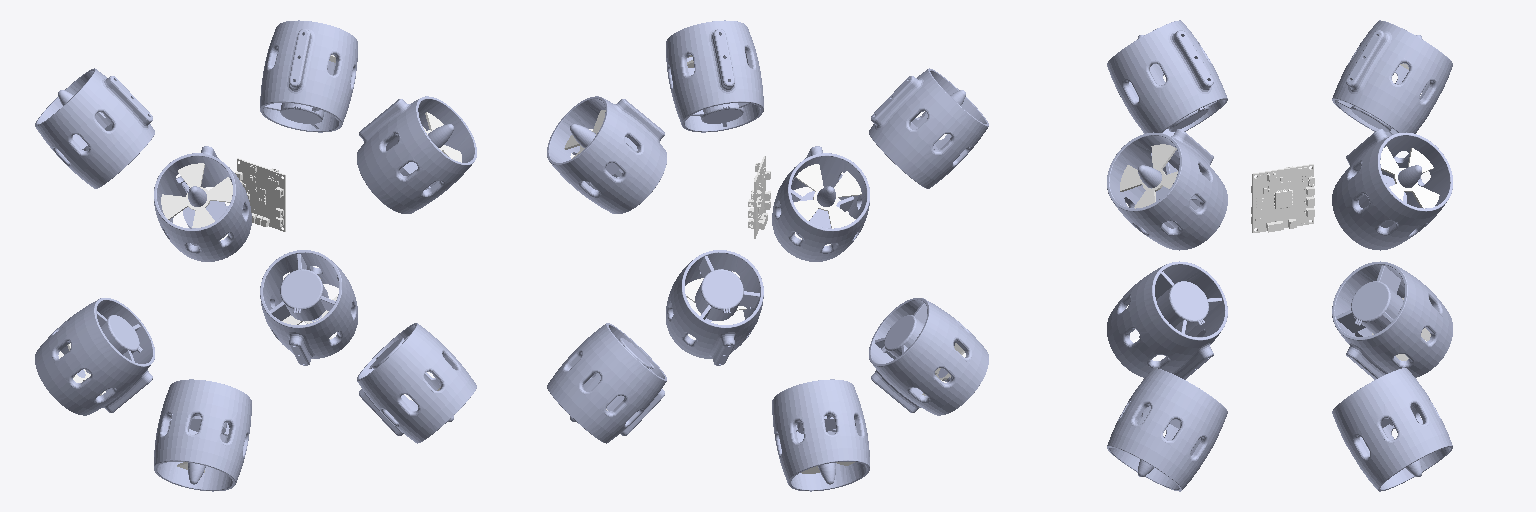
The robot description file, URDF, robot "proto_type_5":
<?xml version='1.0' encoding='UTF-8'?>
<robot name="proto_type_5">
  <link name="base_link">
    <inertial>
      <origin xyz="0.000610809453814865 0.162582918364251 -0.1654384203084" rpy="0.0 -0.0 0.0"/>
      <mass value="2.03290862810658"/>
      <inertia ixx="0.0157494672417558" ixy="4.09597593842855e-05" ixz="-4.67703603305006e-11" iyy="0.00862299314586213" iyz="-1.77040423339248e-11" izz="0.0122062172223626"/>
    </inertial>
    <visual>
      <geometry>
        <mesh filename="package://proto_type_5/meshes/base_link.dae"/>
      </geometry>
      <material name="__unnamed_material_1"/>
      <origin xyz="0.0 0.0 0.0" rpy="0.0 -0.0 0.0"/>
    </visual>
    <collision>
      <geometry>
        <mesh filename="package://proto_type_5/meshes/base_link.stl"/>
      </geometry>
      <origin xyz="0.0 0.0 0.0" rpy="0.0 -0.0 0.0"/>
    </collision>
  </link>
  <link name="t1">
    <inertial>
      <origin xyz="-0.0142922441748077 -0.0143000152096667 0.0177167300551074" rpy="0.0 -0.0 0.0"/>
      <mass value="0.0993924873704976"/>
      <inertia ixx="7.91541243410576e-05" ixy="6.1394710344996e-08" ixz="-3.7817205620643e-06" iyy="7.91363117743542e-05" iyz="-3.8040185353616e-06" izz="7.67197078218331e-05"/>
    </inertial>
    <visual>
      <geometry>
        <mesh filename="package://proto_type_5/meshes/t1.dae"/>
      </geometry>
      <material name="__unnamed_material_2"/>
      <origin xyz="0.0 0.0 0.0" rpy="0.0 -0.0 0.0"/>
    </visual>
    <collision>
      <geometry>
        <mesh filename="package://proto_type_5/meshes/t1.stl"/>
      </geometry>
      <origin xyz="0.0 0.0 0.0" rpy="0.0 -0.0 0.0"/>
    </collision>
  </link>
  <link name="thrust1">
    <inertial>
      <origin xyz="4.341e-13 1.1256e-12 -0.001" rpy="0.0 -0.0 0.0"/>
      <mass value="0.0028342"/>
      <inertia ixx="6.5251e-07" ixy="-3.7984e-21" ixz="-3.8381e-22" iyy="6.5251e-07" iyz="-4.4999e-22" izz="1.3031e-06"/>
    </inertial>
    <visual>
      <geometry>
        <mesh filename="package://proto_type_5/meshes/thrust1.dae"/>
      </geometry>
      <material name="__unnamed_material_3"/>
      <origin xyz="0.0 0.0 0.0" rpy="0.0 -0.0 0.0"/>
    </visual>
    <collision>
      <geometry>
        <mesh filename="package://proto_type_5/meshes/thrust1.stl"/>
      </geometry>
      <origin xyz="0.0 0.0 0.0" rpy="0.0 -0.0 0.0"/>
    </collision>
  </link>
  <link name="t2">
    <inertial>
      <origin xyz="-0.0143000152083121 0.0142922441734263 0.0177167300550675" rpy="0.0 -0.0 0.0"/>
      <mass value="0.099392487370497"/>
      <inertia ixx="7.91363117743929e-05" ixy="-6.13947103527403e-08" ixz="-3.80401853537244e-06" iyy="7.91541243410998e-05" iyz="3.78172056207492e-06" izz="7.67197078218827e-05"/>
    </inertial>
    <visual>
      <geometry>
        <mesh filename="package://proto_type_5/meshes/t2.dae"/>
      </geometry>
      <material name="__unnamed_material_4"/>
      <origin xyz="0.0 0.0 0.0" rpy="0.0 -0.0 0.0"/>
    </visual>
    <collision>
      <geometry>
        <mesh filename="package://proto_type_5/meshes/t2.stl"/>
      </geometry>
      <origin xyz="0.0 0.0 0.0" rpy="0.0 -0.0 0.0"/>
    </collision>
  </link>
  <link name="thrust2">
    <inertial>
      <origin xyz="-4.5031e-13 -1.1389e-12 0.001" rpy="0.0 -0.0 0.0"/>
      <mass value="0.0028342"/>
      <inertia ixx="6.5251e-07" ixy="5.7836e-21" ixz="2.647e-23" iyy="6.5251e-07" iyz="-3.4411e-22" izz="1.3031e-06"/>
    </inertial>
    <visual>
      <geometry>
        <mesh filename="package://proto_type_5/meshes/thrust2.dae"/>
      </geometry>
      <material name="__unnamed_material_5"/>
      <origin xyz="0.0 0.0 0.0" rpy="0.0 -0.0 0.0"/>
    </visual>
    <collision>
      <geometry>
        <mesh filename="package://proto_type_5/meshes/thrust2.stl"/>
      </geometry>
      <origin xyz="0.0 0.0 0.0" rpy="0.0 -0.0 0.0"/>
    </collision>
  </link>
  <link name="t3">
    <inertial>
      <origin xyz="0.014292244174808 0.0143000152068432 0.0177167300551437" rpy="0.0 -0.0 0.0"/>
      <mass value="0.099392487370502"/>
      <inertia ixx="7.91541243411461e-05" ixy="6.1394710360004e-08" ixz="3.78172056208685e-06" iyy="7.91363117744406e-05" iyz="3.80401853538433e-06" izz="7.67197078219415e-05"/>
    </inertial>
    <visual>
      <geometry>
        <mesh filename="package://proto_type_5/meshes/t3.dae"/>
      </geometry>
      <material name="__unnamed_material_6"/>
      <origin xyz="0.0 0.0 0.0" rpy="0.0 -0.0 0.0"/>
    </visual>
    <collision>
      <geometry>
        <mesh filename="package://proto_type_5/meshes/t3.stl"/>
      </geometry>
      <origin xyz="0.0 0.0 0.0" rpy="0.0 -0.0 0.0"/>
    </collision>
  </link>
  <link name="thrust3">
    <inertial>
      <origin xyz="3.65929508916452e-13 -1.19872167747559e-12 0.000999999999298007" rpy="0.0 -0.0 0.0"/>
      <mass value="0.00283424938765202"/>
      <inertia ixx="6.52506444943008e-07" ixy="1.40289831888993e-21" ixz="-2.38228016415272e-22" iyy="6.52506444943005e-07" iyz="7.94093388050907e-23" izz="1.30312339029424e-06"/>
    </inertial>
    <visual>
      <geometry>
        <mesh filename="package://proto_type_5/meshes/thrust3.dae"/>
      </geometry>
      <material name="__unnamed_material_7"/>
      <origin xyz="0.0 0.0 0.0" rpy="0.0 -0.0 0.0"/>
    </visual>
    <collision>
      <geometry>
        <mesh filename="package://proto_type_5/meshes/thrust3.stl"/>
      </geometry>
      <origin xyz="0.0 0.0 0.0" rpy="0.0 -0.0 0.0"/>
    </collision>
  </link>
  <link name="t4">
    <inertial>
      <origin xyz="0.0143000152083128 -0.0142922441762693 0.017716730055045" rpy="0.0 -0.0 0.0"/>
      <mass value="0.0993924873704986"/>
      <inertia ixx="7.91363117743514e-05" ixy="-6.13947103452402e-08" ixz="3.80401853536186e-06" iyy="7.91541243410573e-05" iyz="-3.78172056206365e-06" izz="7.67197078218372e-05"/>
    </inertial>
    <visual>
      <geometry>
        <mesh filename="package://proto_type_5/meshes/t4.dae"/>
      </geometry>
      <material name="__unnamed_material_8"/>
      <origin xyz="0.0 0.0 0.0" rpy="0.0 -0.0 0.0"/>
    </visual>
    <collision>
      <geometry>
        <mesh filename="package://proto_type_5/meshes/t4.stl"/>
      </geometry>
      <origin xyz="0.0 0.0 0.0" rpy="0.0 -0.0 0.0"/>
    </collision>
  </link>
  <link name="thrust4">
    <inertial>
      <origin xyz="-3.60711460700713e-13 -1.19552978627979e-12 0.00100000000069372" rpy="0.0 -0.0 0.0"/>
      <mass value="0.00283424938765201"/>
      <inertia ixx="6.52506444943004e-07" ixy="1.53524721689842e-21" ixz="-3.70576914423756e-22" iyy="6.52506444943001e-07" iyz="1.05879118406788e-22" izz="1.30312339029424e-06"/>
    </inertial>
    <visual>
      <geometry>
        <mesh filename="package://proto_type_5/meshes/thrust4.dae"/>
      </geometry>
      <material name="__unnamed_material_9"/>
      <origin xyz="0.0 0.0 0.0" rpy="0.0 -0.0 0.0"/>
    </visual>
    <collision>
      <geometry>
        <mesh filename="package://proto_type_5/meshes/thrust4.stl"/>
      </geometry>
      <origin xyz="0.0 0.0 0.0" rpy="0.0 -0.0 0.0"/>
    </collision>
  </link>
  <link name="t5">
    <inertial>
      <origin xyz="0.0142922441747572 -0.0143000152091604 -0.0177167300546501" rpy="0.0 -0.0 0.0"/>
      <mass value="0.0993924873704979"/>
      <inertia ixx="7.91541243410934e-05" ixy="-6.13947103527992e-08" ixz="-3.78172056207648e-06" iyy="7.91363117743883e-05" iyz="3.80401853537312e-06" izz="7.67197078218795e-05"/>
    </inertial>
    <visual>
      <geometry>
        <mesh filename="package://proto_type_5/meshes/t5.dae"/>
      </geometry>
      <material name="__unnamed_material_10"/>
      <origin xyz="0.0 0.0 0.0" rpy="0.0 -0.0 0.0"/>
    </visual>
    <collision>
      <geometry>
        <mesh filename="package://proto_type_5/meshes/t5.stl"/>
      </geometry>
      <origin xyz="0.0 0.0 0.0" rpy="0.0 -0.0 0.0"/>
    </collision>
  </link>
  <link name="thrust5">
    <inertial>
      <origin xyz="-1.46216372343133e-13 9.7875874072173e-13 0.00100000000008169" rpy="0.0 -0.0 0.0"/>
      <mass value="0.00283424938765203"/>
      <inertia ixx="6.52506444943012e-07" ixy="7.6762360844921e-22" ixz="1.58818677610181e-22" iyy="6.52506444943006e-07" iyz="3.17637355220363e-22" izz="1.30312339029425e-06"/>
    </inertial>
    <visual>
      <geometry>
        <mesh filename="package://proto_type_5/meshes/thrust5.dae"/>
      </geometry>
      <material name="__unnamed_material_11"/>
      <origin xyz="0.0 0.0 0.0" rpy="0.0 -0.0 0.0"/>
    </visual>
    <collision>
      <geometry>
        <mesh filename="package://proto_type_5/meshes/thrust5.stl"/>
      </geometry>
      <origin xyz="0.0 0.0 0.0" rpy="0.0 -0.0 0.0"/>
    </collision>
  </link>
  <link name="t6">
    <inertial>
      <origin xyz="0.0143000152083608 0.014292244173953 -0.0177167300555377" rpy="0.0 -0.0 0.0"/>
      <mass value="0.0993924873704977"/>
      <inertia ixx="7.91363117744056e-05" ixy="6.13947103555434e-08" ixz="-3.80401853537721e-06" iyy="7.91541243411116e-05" iyz="-3.78172056208147e-06" izz="7.67197078219017e-05"/>
    </inertial>
    <visual>
      <geometry>
        <mesh filename="package://proto_type_5/meshes/t6.dae"/>
      </geometry>
      <material name="__unnamed_material_12"/>
      <origin xyz="0.0 0.0 0.0" rpy="0.0 -0.0 0.0"/>
    </visual>
    <collision>
      <geometry>
        <mesh filename="package://proto_type_5/meshes/t6.stl"/>
      </geometry>
      <origin xyz="0.0 0.0 0.0" rpy="0.0 -0.0 0.0"/>
    </collision>
  </link>
  <link name="thrust6">
    <inertial>
      <origin xyz="1.49213974509621e-13 9.80743264378248e-13 0.000999999999907408" rpy="0.0 -0.0 0.0"/>
      <mass value="0.00283424938765203"/>
      <inertia ixx="6.52506444943008e-07" ixy="-1.6675961149069e-21" ixz="1.32348898008484e-22" iyy="6.52506444943007e-07" iyz="0.0" izz="1.30312339029425e-06"/>
    </inertial>
    <visual>
      <geometry>
        <mesh filename="package://proto_type_5/meshes/thrust6.dae"/>
      </geometry>
      <material name="__unnamed_material_13"/>
      <origin xyz="0.0 0.0 0.0" rpy="0.0 -0.0 0.0"/>
    </visual>
    <collision>
      <geometry>
        <mesh filename="package://proto_type_5/meshes/thrust6.stl"/>
      </geometry>
      <origin xyz="0.0 0.0 0.0" rpy="0.0 -0.0 0.0"/>
    </collision>
  </link>
  <link name="t7">
    <inertial>
      <origin xyz="-0.0142922441747535 0.0143000152075655 -0.0177167300555658" rpy="0.0 -0.0 0.0"/>
      <mass value="0.0993924873704991"/>
      <inertia ixx="7.91541243411076e-05" ixy="-6.13947103534102e-08" ixz="3.78172056207879e-06" iyy="7.91363117744045e-05" iyz="-3.80401853537503e-06" izz="7.67197078218991e-05"/>
    </inertial>
    <visual>
      <geometry>
        <mesh filename="package://proto_type_5/meshes/t7.dae"/>
      </geometry>
      <material name="__unnamed_material_14"/>
      <origin xyz="0.0 0.0 0.0" rpy="0.0 -0.0 0.0"/>
    </visual>
    <collision>
      <geometry>
        <mesh filename="package://proto_type_5/meshes/t7.stl"/>
      </geometry>
      <origin xyz="0.0 0.0 0.0" rpy="0.0 -0.0 0.0"/>
    </collision>
  </link>
  <link name="thrust7">
    <inertial>
      <origin xyz="6.28386231937839e-14 8.51013703950798e-13 0.000999999999931722" rpy="0.0 -0.0 0.0"/>
      <mass value="0.00283424938765203"/>
      <inertia ixx="6.52506444943009e-07" ixy="4.16899028726726e-21" ixz="-4.76456032830544e-22" iyy="6.52506444943004e-07" iyz="-1.58818677610181e-22" izz="1.30312339029425e-06"/>
    </inertial>
    <visual>
      <geometry>
        <mesh filename="package://proto_type_5/meshes/thrust7.dae"/>
      </geometry>
      <material name="__unnamed_material_15"/>
      <origin xyz="0.0 0.0 0.0" rpy="0.0 -0.0 0.0"/>
    </visual>
    <collision>
      <geometry>
        <mesh filename="package://proto_type_5/meshes/thrust7.stl"/>
      </geometry>
      <origin xyz="0.0 0.0 0.0" rpy="0.0 -0.0 0.0"/>
    </collision>
  </link>
  <link name="t8">
    <inertial>
      <origin xyz="-0.0143000152083657 -0.014292244175563 -0.0177167300546265" rpy="0.0 -0.0 0.0"/>
      <mass value="0.099392487370502"/>
      <inertia ixx="7.91363117744156e-05" ixy="6.13947103564349e-08" ixz="3.80401853537694e-06" iyy="7.91541243411207e-05" iyz="3.78172056208213e-06" izz="7.67197078219053e-05"/>
    </inertial>
    <visual>
      <geometry>
        <mesh filename="package://proto_type_5/meshes/t8.dae"/>
      </geometry>
      <material name="__unnamed_material_16"/>
      <origin xyz="0.0 0.0 0.0" rpy="0.0 -0.0 0.0"/>
    </visual>
    <collision>
      <geometry>
        <mesh filename="package://proto_type_5/meshes/t8.stl"/>
      </geometry>
      <origin xyz="0.0 0.0 0.0" rpy="0.0 -0.0 0.0"/>
    </collision>
  </link>
  <link name="thrust8">
    <inertial>
      <origin xyz="-5.89528426075958e-14 8.60519988599151e-13 0.00100000000007405" rpy="0.0 -0.0 0.0"/>
      <mass value="0.00283424938765205"/>
      <inertia ixx="6.5250644494302e-07" ixy="1.7205356741103e-22" ixz="-1.58818677610181e-22" iyy="6.52506444943011e-07" iyz="6.08804930839028e-22" izz="1.30312339029426e-06"/>
    </inertial>
    <visual>
      <geometry>
        <mesh filename="package://proto_type_5/meshes/thrust8.dae"/>
      </geometry>
      <material name="__unnamed_material_17"/>
      <origin xyz="0.0 0.0 0.0" rpy="0.0 -0.0 0.0"/>
    </visual>
    <collision>
      <geometry>
        <mesh filename="package://proto_type_5/meshes/thrust8.stl"/>
      </geometry>
      <origin xyz="0.0 0.0 0.0" rpy="0.0 -0.0 0.0"/>
    </collision>
  </link>
  <link name="fc">
    <inertial>
      <origin xyz="0.0 0.0 0.0" rpy="0.0 -0.0 0.0"/>
      <mass value="0.0"/>
      <inertia ixx="0.0" ixy="0.0" ixz="0.0" iyy="0.0" iyz="0.0" izz="0.0"/>
    </inertial>
    <visual>
      <geometry>
        <mesh filename="package://proto_type_5/meshes/fc.dae"/>
      </geometry>
      <material name="__unnamed_material_18"/>
      <origin xyz="0.0 0.0 0.0" rpy="0.0 -0.0 0.0"/>
    </visual>
    <collision>
      <geometry>
        <mesh filename="package://proto_type_5/meshes/fc.stl"/>
      </geometry>
      <origin xyz="0.0 0.0 0.0" rpy="0.0 -0.0 0.0"/>
    </collision>
  </link>
  <joint name="l1" type="fixed">
    <limit effort="0.0" velocity="0.0" lower="-20.0" upper="20.0"/>
    <parent link="base_link"/>
    <child link="t1"/>
    <axis xyz="0. 0. 0."/>
    <origin xyz="0.109644792463 0.0969168704010846 -0.281585755800402" rpy="0.0 -0.0 0.0"/>
  </joint>
  <joint name="rotor1" type="continuous">
    <limit effort="0.0" velocity="0.0"/>
    <parent link="t1"/>
    <child link="thrust1"/>
    <axis xyz="0. 0. 1."/>
    <origin xyz="0.0 0.0 0.0" rpy="-2.4569 -0.42052999999999996 -0.32175"/>
  </joint>
  <joint name="l2" type="fixed">
    <limit effort="0.0" velocity="0.0" lower="-20.0" upper="20.0"/>
    <parent link="base_link"/>
    <child link="t2"/>
    <axis xyz="0. 0. 0."/>
    <origin xyz="0.10964 -0.096917 -0.28159" rpy="0.0 -0.0 0.0"/>
  </joint>
  <joint name="rotor2" type="continuous">
    <limit effort="0.0" velocity="0.0"/>
    <parent link="t2"/>
    <child link="thrust2"/>
    <axis xyz=" 0.  0. -1."/>
    <origin xyz="0.0 0.0 0.0" rpy="-0.68472 -0.42052999999999996 0.32175"/>
  </joint>
  <joint name="l3" type="fixed">
    <limit effort="0.0" velocity="0.0" lower="-20.0" upper="20.0"/>
    <parent link="base_link"/>
    <child link="t3"/>
    <axis xyz="0. 0. 0."/>
    <origin xyz="-0.10964 -0.096917 -0.28159" rpy="0.0 -0.0 0.0"/>
  </joint>
  <joint name="rotor3" type="continuous">
    <limit effort="0.0" velocity="0.0"/>
    <parent link="t3"/>
    <child link="thrust3"/>
    <axis xyz="0. 0. 1."/>
    <origin xyz="0.0 0.0 0.0" rpy="-0.68472 0.42052999999999996 -0.32175"/>
  </joint>
  <joint name="l4" type="fixed">
    <limit effort="0.0" velocity="0.0" lower="-20.0" upper="20.0"/>
    <parent link="base_link"/>
    <child link="t4"/>
    <axis xyz="0. 0. 0."/>
    <origin xyz="-0.10964 0.096917 -0.28159" rpy="0.0 -0.0 0.0"/>
  </joint>
  <joint name="rotor4" type="continuous">
    <limit effort="0.0" velocity="0.0"/>
    <parent link="t4"/>
    <child link="thrust4"/>
    <axis xyz=" 0.  0. -1."/>
    <origin xyz="0.0 0.0 0.0" rpy="0.68472 0.42052999999999996 0.32175"/>
  </joint>
  <joint name="l5" type="fixed">
    <limit effort="0.0" velocity="0.0" lower="-20.0" upper="20.0"/>
    <parent link="base_link"/>
    <child link="t5"/>
    <axis xyz="0. 0. 0."/>
    <origin xyz="-0.10964 0.096917 -0.050214" rpy="0.0 -0.0 0.0"/>
  </joint>
  <joint name="rotor5" type="continuous">
    <limit effort="0.0" velocity="0.0"/>
    <parent link="t5"/>
    <child link="thrust5"/>
    <axis xyz="0. 0. 1."/>
    <origin xyz="0.0 0.0 0.0" rpy="2.4569 -0.42052999999999996 0.32175"/>
  </joint>
  <joint name="l6" type="fixed">
    <limit effort="0.0" velocity="0.0" lower="-20.0" upper="20.0"/>
    <parent link="base_link"/>
    <child link="t6"/>
    <axis xyz="0. 0. 0."/>
    <origin xyz="-0.10964 -0.096917 -0.050214" rpy="0.0 -0.0 0.0"/>
  </joint>
  <joint name="rotor6" type="continuous">
    <limit effort="0.0" velocity="0.0"/>
    <parent link="t6"/>
    <child link="thrust6"/>
    <axis xyz=" 0.  0. -1."/>
    <origin xyz="0.0 0.0 0.0" rpy="-2.4569 -0.42052999999999996 -0.32175"/>
  </joint>
  <joint name="l7" type="fixed">
    <limit effort="0.0" velocity="0.0" lower="-20.0" upper="20.0"/>
    <parent link="base_link"/>
    <child link="t7"/>
    <axis xyz="0. 0. 0."/>
    <origin xyz="0.10964 -0.096917 -0.050214" rpy="0.0 -0.0 0.0"/>
  </joint>
  <joint name="rotor7" type="continuous">
    <limit effort="0.0" velocity="0.0"/>
    <parent link="t7"/>
    <child link="thrust7"/>
    <axis xyz="0. 0. 1."/>
    <origin xyz="0.0 0.0 0.0" rpy="-2.4569 0.42052999999999996 0.32175"/>
  </joint>
  <joint name="l8" type="fixed">
    <limit effort="0.0" velocity="0.0" lower="-20.0" upper="20.0"/>
    <parent link="base_link"/>
    <child link="t8"/>
    <axis xyz="0. 0. 0."/>
    <origin xyz="0.10964 0.096917 -0.050214" rpy="0.0 -0.0 0.0"/>
  </joint>
  <joint name="rotor8" type="continuous">
    <limit effort="0.0" velocity="0.0"/>
    <parent link="t8"/>
    <child link="thrust8"/>
    <axis xyz=" 0.  0. -1."/>
    <origin xyz="0.0 0.0 0.0" rpy="2.4569 0.42052999999999996 -0.32175"/>
  </joint>
  <joint name="fc" type="fixed">
    <limit effort="0.0" velocity="0.0"/>
    <parent link="base_link"/>
    <child link="fc"/>
    <axis xyz="0. 0. 0."/>
    <origin xyz="0.00704662191902883 0.00267140409614365 -0.114499999725" rpy="0.0 -0.0 0.0"/>
  </joint>
  <material name="__unnamed_material_1">
    <color rgba="0.75294118 0.75294118 0.75294118 1.        "/>
  </material>
  <material name="__unnamed_material_2">
    <color rgba="0.79215686 0.81960784 0.93333333 1.        "/>
  </material>
  <material name="__unnamed_material_3">
    <color rgba="1. 1. 1. 1."/>
  </material>
  <material name="__unnamed_material_4">
    <color rgba="0.79215686 0.81960784 0.93333333 1.        "/>
  </material>
  <material name="__unnamed_material_5">
    <color rgba="1. 1. 1. 1."/>
  </material>
  <material name="__unnamed_material_6">
    <color rgba="0.79215686 0.81960784 0.93333333 1.        "/>
  </material>
  <material name="__unnamed_material_7">
    <color rgba="1. 1. 1. 1."/>
  </material>
  <material name="__unnamed_material_8">
    <color rgba="0.79215686 0.81960784 0.93333333 1.        "/>
  </material>
  <material name="__unnamed_material_9">
    <color rgba="1. 1. 1. 1."/>
  </material>
  <material name="__unnamed_material_10">
    <color rgba="0.79215686 0.81960784 0.93333333 1.        "/>
  </material>
  <material name="__unnamed_material_11">
    <color rgba="1. 1. 1. 1."/>
  </material>
  <material name="__unnamed_material_12">
    <color rgba="0.79215686 0.81960784 0.93333333 1.        "/>
  </material>
  <material name="__unnamed_material_13">
    <color rgba="1. 1. 1. 1."/>
  </material>
  <material name="__unnamed_material_14">
    <color rgba="0.79215686 0.81960784 0.93333333 1.        "/>
  </material>
  <material name="__unnamed_material_15">
    <color rgba="1. 1. 1. 1."/>
  </material>
  <material name="__unnamed_material_16">
    <color rgba="0.79215686 0.81960784 0.93333333 1.        "/>
  </material>
  <material name="__unnamed_material_17">
    <color rgba="1. 1. 1. 1."/>
  </material>
  <material name="__unnamed_material_18">
    <color rgba="1. 1. 1. 1."/>
  </material>
</robot>

--- What the picture shows (computed from the rendered views, not written in the file) ---
3 views of the same robot in one strip: view 1: azimuth 30°, elevation 25°; view 2: azimuth 150°, elevation 25°; view 3: azimuth 270°, elevation 25° (orthographic).
Robot: proto_type_5 — 18 links, 17 joints (8 continuous, 9 fixed); root link base_link; default pose: every joint at zero.
Visible links, largest first — view 1: t4, t7, t8, t3, t5, t2, t1, t6, fc, thrust6; view 2: t3, t8, t7, t4, t1, t6, t2, t5, thrust5, fc; view 3: t3, t4, t2, t1, t7, t8, t6, t5, fc, thrust7, thrust8.
Link boxes in pixels (x1,y1,x2,y2): t4: (35, 298, 154, 415); t7: (357, 96, 476, 213); t8: (260, 20, 357, 132); t3: (154, 379, 251, 491); t5: (35, 68, 154, 188); t2: (357, 323, 476, 443); t1: (260, 250, 357, 365); t6: (154, 146, 251, 261); fc: (235, 158, 285, 231); thrust6: (161, 163, 232, 227); t3: (869, 298, 988, 415); t8: (547, 96, 666, 213); t7: (666, 20, 763, 132); t4: (772, 379, 869, 491); t1: (547, 323, 666, 443); t6: (869, 68, 988, 188); t2: (666, 250, 763, 365); t5: (772, 146, 869, 261); thrust5: (794, 164, 861, 228); fc: (748, 156, 770, 238); t3: (1107, 261, 1227, 379); t4: (1332, 261, 1452, 379); t2: (1107, 368, 1227, 491); t1: (1332, 368, 1452, 491); t7: (1107, 129, 1227, 250); t8: (1332, 129, 1452, 250); t6: (1107, 20, 1227, 136); t5: (1332, 20, 1452, 136); fc: (1251, 164, 1314, 232); thrust7: (1120, 144, 1177, 208); thrust8: (1380, 146, 1439, 208).
Size in the robot's own frame: 0.291 by 0.2656 by 0.2983 metres.
17 mesh visuals loaded from 18 distinct referenced files (17 Collada DAE); not drawn: 1 (reference not matched to a file when rendering).
